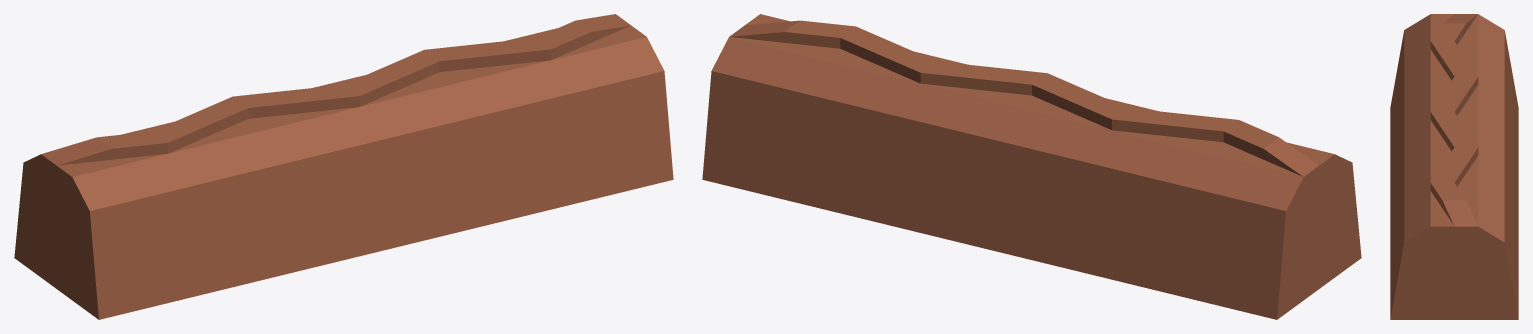
Rendered from candyBar.fbx.
The picture shows the model from 3 angles, left to right: view 1: azimuth 30°, elevation 25°; view 2: azimuth 150°, elevation 25°; view 3: azimuth 270°, elevation 25°; orthographic projection. The views are drawn at different scales.
Visible parts, largest first — view 1: candyBar; view 2: candyBar; view 3: candyBar.
Boxes of the visible parts, x1,y1,x2,y2 form: candyBar: (14,14,673,319); candyBar: (702,14,1361,319); candyBar: (1390,14,1518,319).
Bounding box in the file's own units: 2.92 × 0.6529 × 0.7454.
